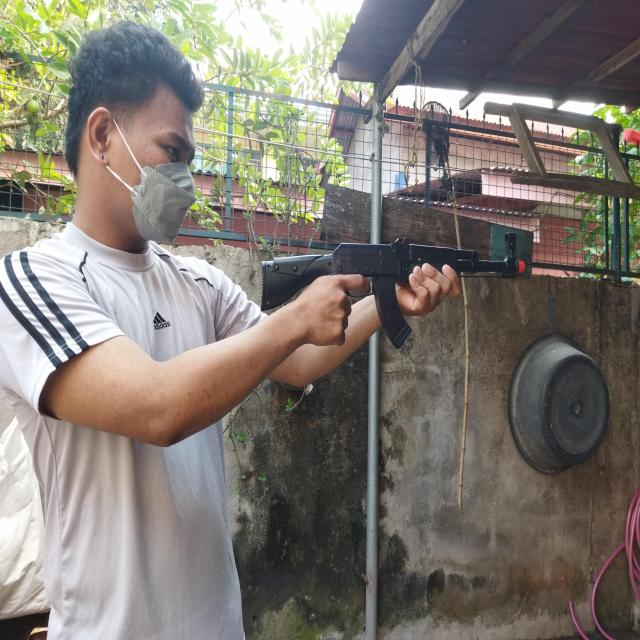rifle: (259, 231, 525, 347)
